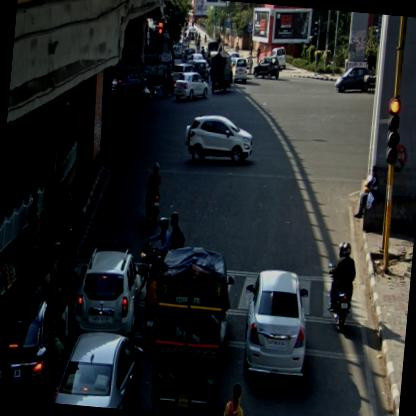car: (236, 268, 312, 392), (48, 329, 145, 410), (69, 244, 144, 340), (0, 293, 58, 402), (182, 113, 256, 168), (334, 64, 370, 97), (172, 71, 209, 103), (110, 69, 148, 99), (251, 53, 280, 82), (170, 62, 196, 87), (230, 57, 248, 86), (270, 46, 288, 70), (194, 60, 210, 80)
motorcycle: (134, 209, 186, 293), (323, 240, 358, 332), (50, 226, 85, 317), (140, 256, 162, 352), (142, 160, 163, 228), (142, 70, 159, 102), (160, 68, 176, 99)
truck: (147, 245, 228, 415), (209, 51, 233, 96)
